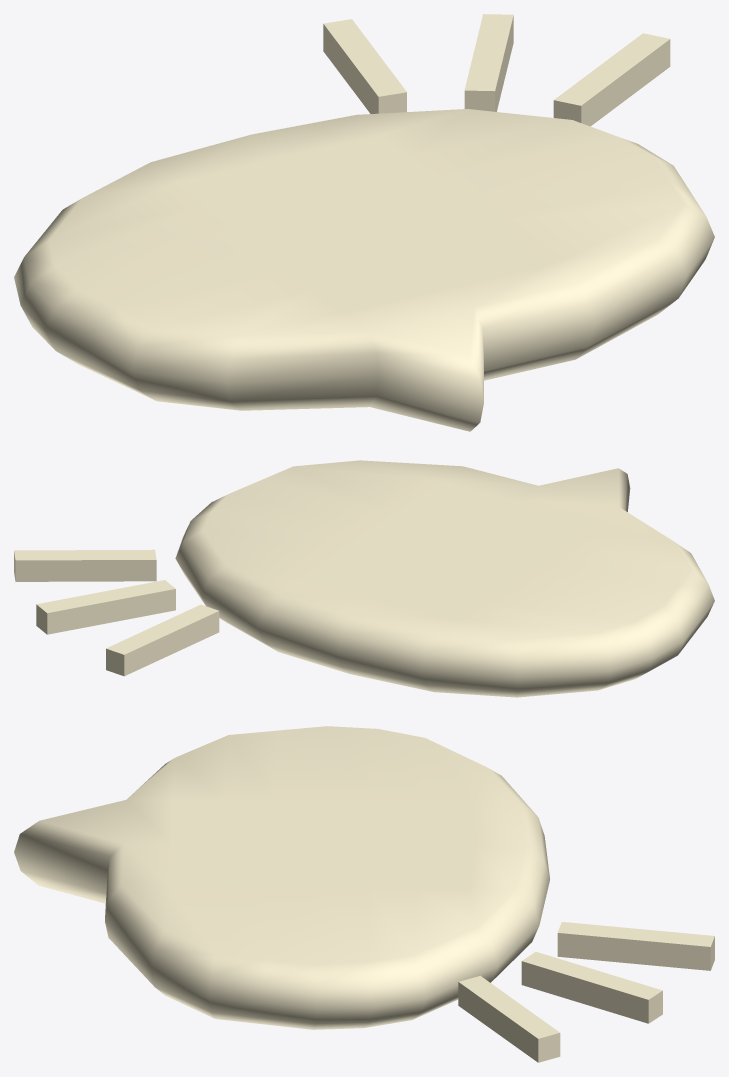
File: k_hukidasi.fbx
The picture shows the model from 3 angles, top to bottom: view 1: azimuth 30°, elevation 25°; view 2: azimuth 150°, elevation 25°; view 3: azimuth 270°, elevation 25°; orthographic projection. The views are drawn at different scales.
Parts seen in each view (by area): view 1: hukidasi_m; view 2: hukidasi_m; view 3: hukidasi_m.
Part boxes in pixels (bbox=[...]): hukidasi_m: bbox=[14, 14, 714, 431]; hukidasi_m: bbox=[14, 460, 714, 697]; hukidasi_m: bbox=[14, 726, 714, 1062].
Bounding box in the file's own units: 79.66 × 7.68 × 75.35.
